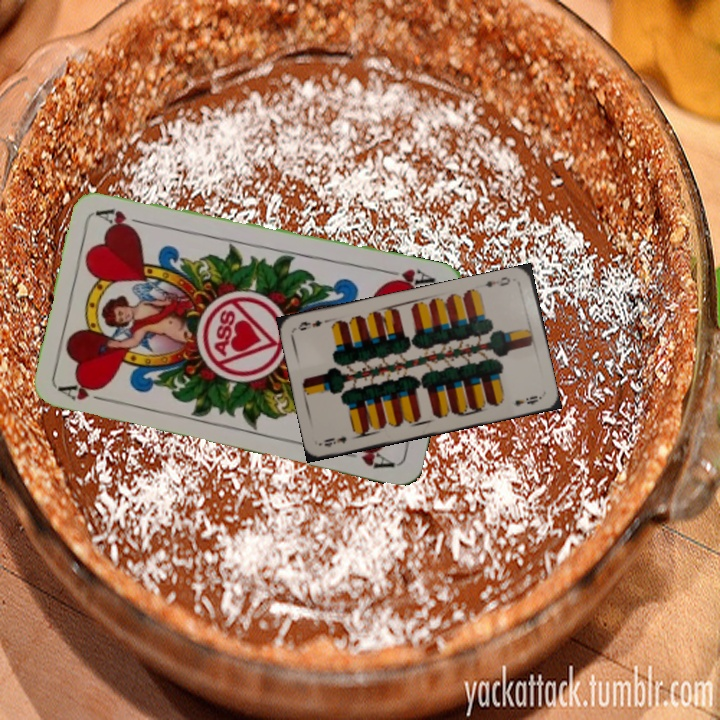E9: (481, 273, 513, 290), (320, 432, 349, 450)
HA: (379, 264, 438, 291), (56, 378, 115, 405)
